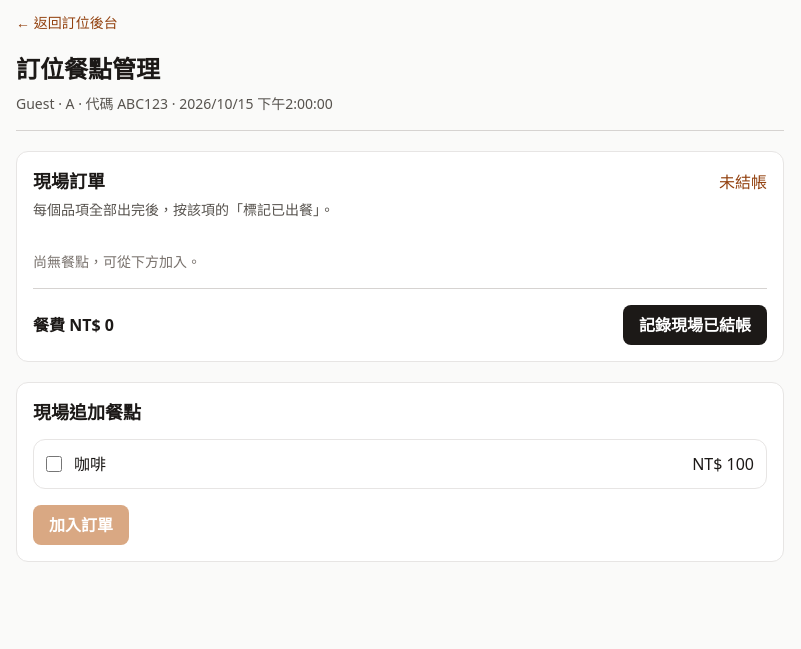
Test: standalone reservation orders — acknowledged add versus refresh (#463) › keeps the existing refresh-failure behavior for other actions
Click the button "記錄現場已結帳" at {"x": 695, "y": 325}, box 623,305 -> 767,345
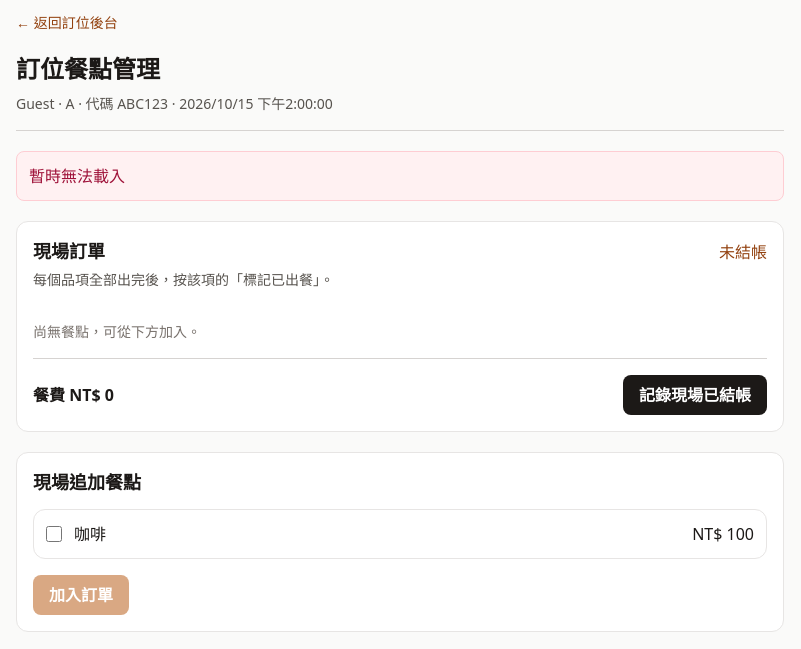
Expected: the message "暫時無法載入" is shown, 16,151 -> 784,201
